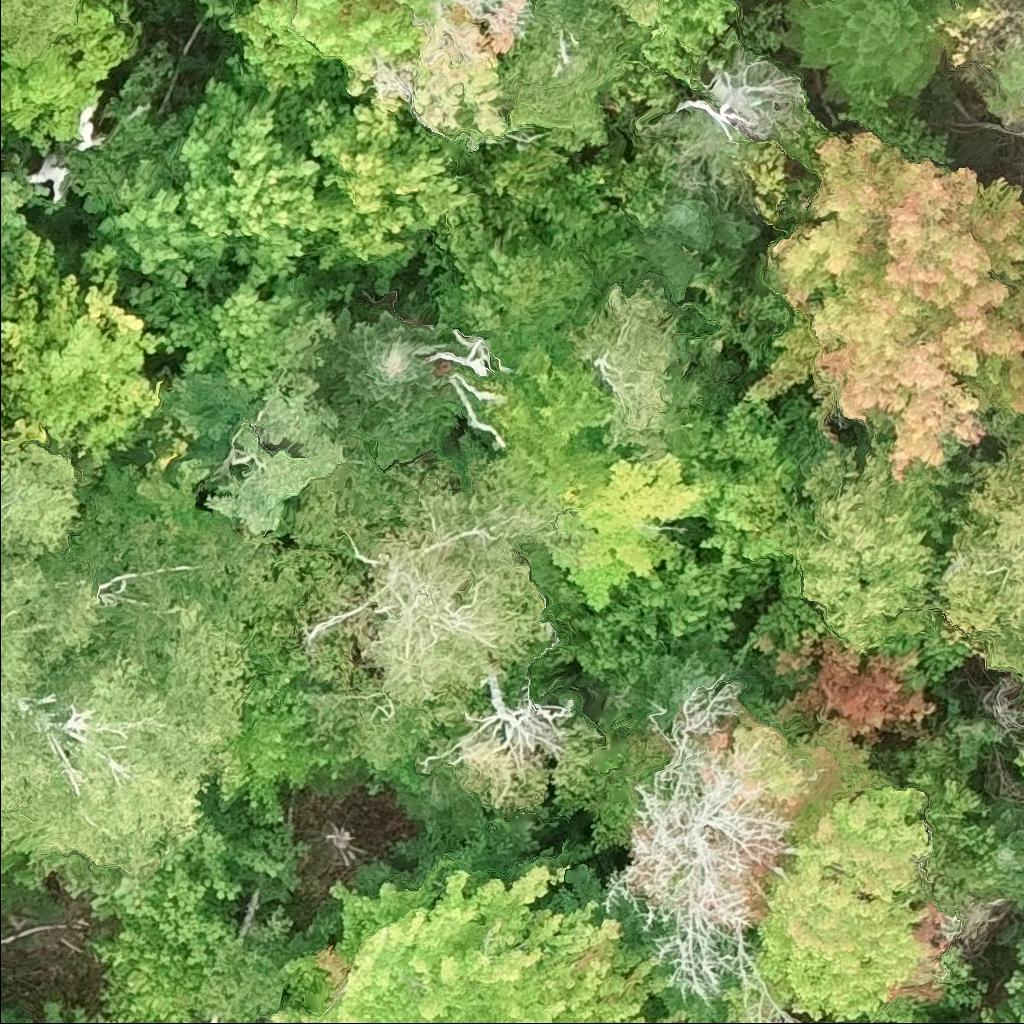crown: (746, 129, 1023, 483), (0, 599, 250, 876), (354, 460, 561, 794), (275, 862, 688, 1023), (751, 774, 957, 1023), (62, 461, 276, 683), (225, 0, 529, 140), (781, 440, 967, 643), (0, 267, 169, 470), (534, 451, 735, 611), (301, 95, 479, 273), (176, 75, 322, 286), (129, 274, 356, 391), (924, 439, 1023, 685), (88, 807, 241, 965), (563, 277, 686, 459), (499, 0, 645, 152), (0, 0, 139, 156), (0, 542, 106, 745), (696, 398, 811, 566), (95, 157, 233, 288), (313, 305, 446, 428), (619, 626, 762, 729), (634, 187, 762, 302), (454, 232, 595, 333), (637, 554, 793, 642), (0, 426, 84, 559), (637, 0, 737, 87), (532, 164, 624, 249), (436, 190, 533, 259), (600, 152, 667, 230), (0, 0, 83, 55), (982, 802, 1023, 901), (987, 48, 1023, 122), (593, 0, 664, 30), (0, 841, 34, 881), (1004, 967, 1023, 1016), (981, 1005, 1023, 1023), (0, 1005, 27, 1023), (1011, 746, 1023, 780), (868, 1018, 911, 1023), (1017, 936, 1023, 962), (403, 0, 424, 6), (771, 1017, 785, 1023), (1021, 815, 1023, 831), (815, 1022, 829, 1023)
